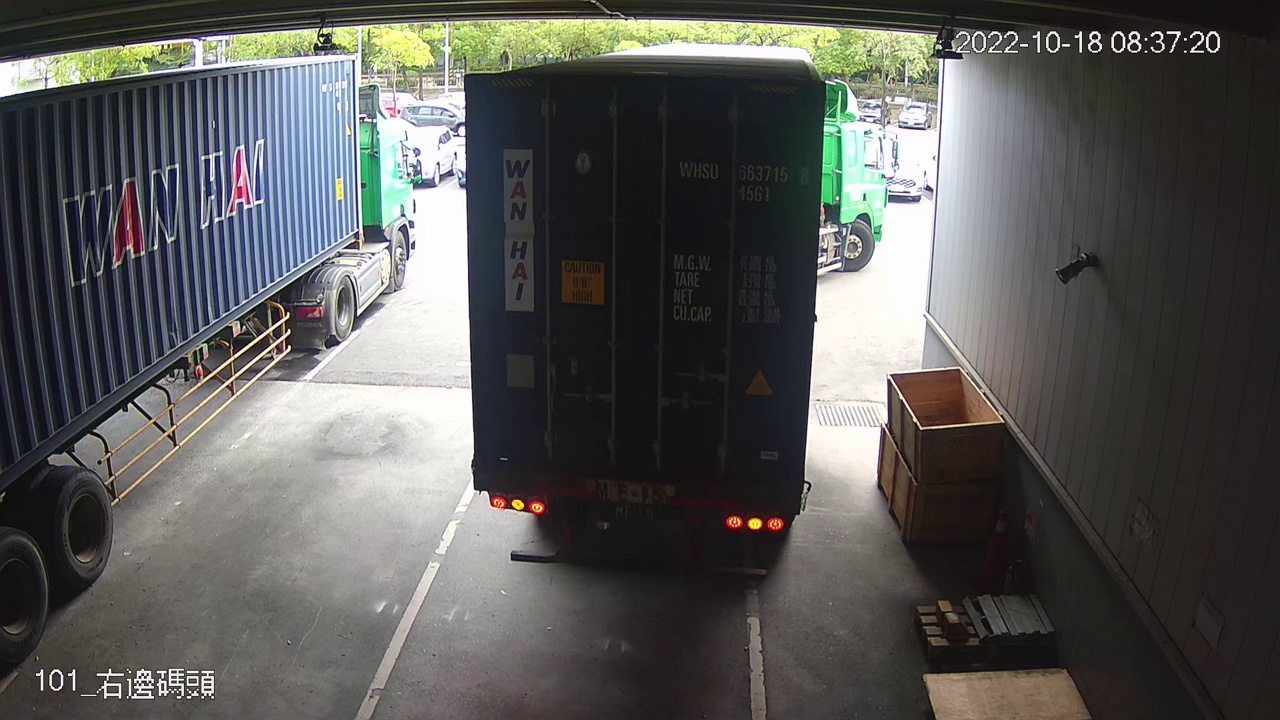container: (673, 154, 815, 209)
